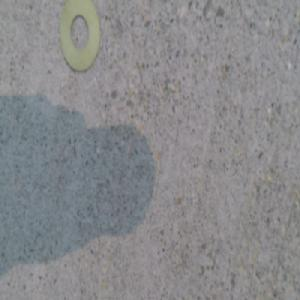Washer: (59, 6, 100, 79)
